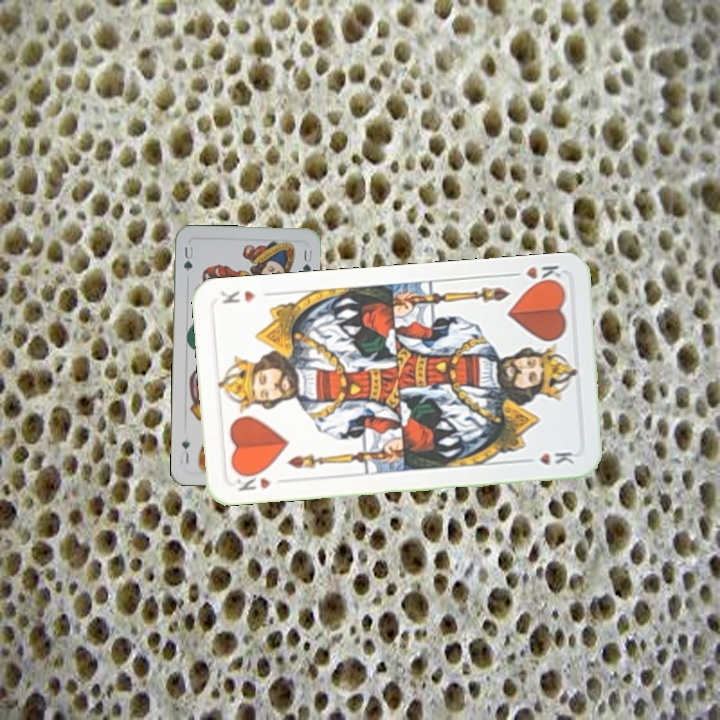GU: (180, 243, 195, 274)
HK: (505, 261, 565, 289), (232, 467, 274, 494)
